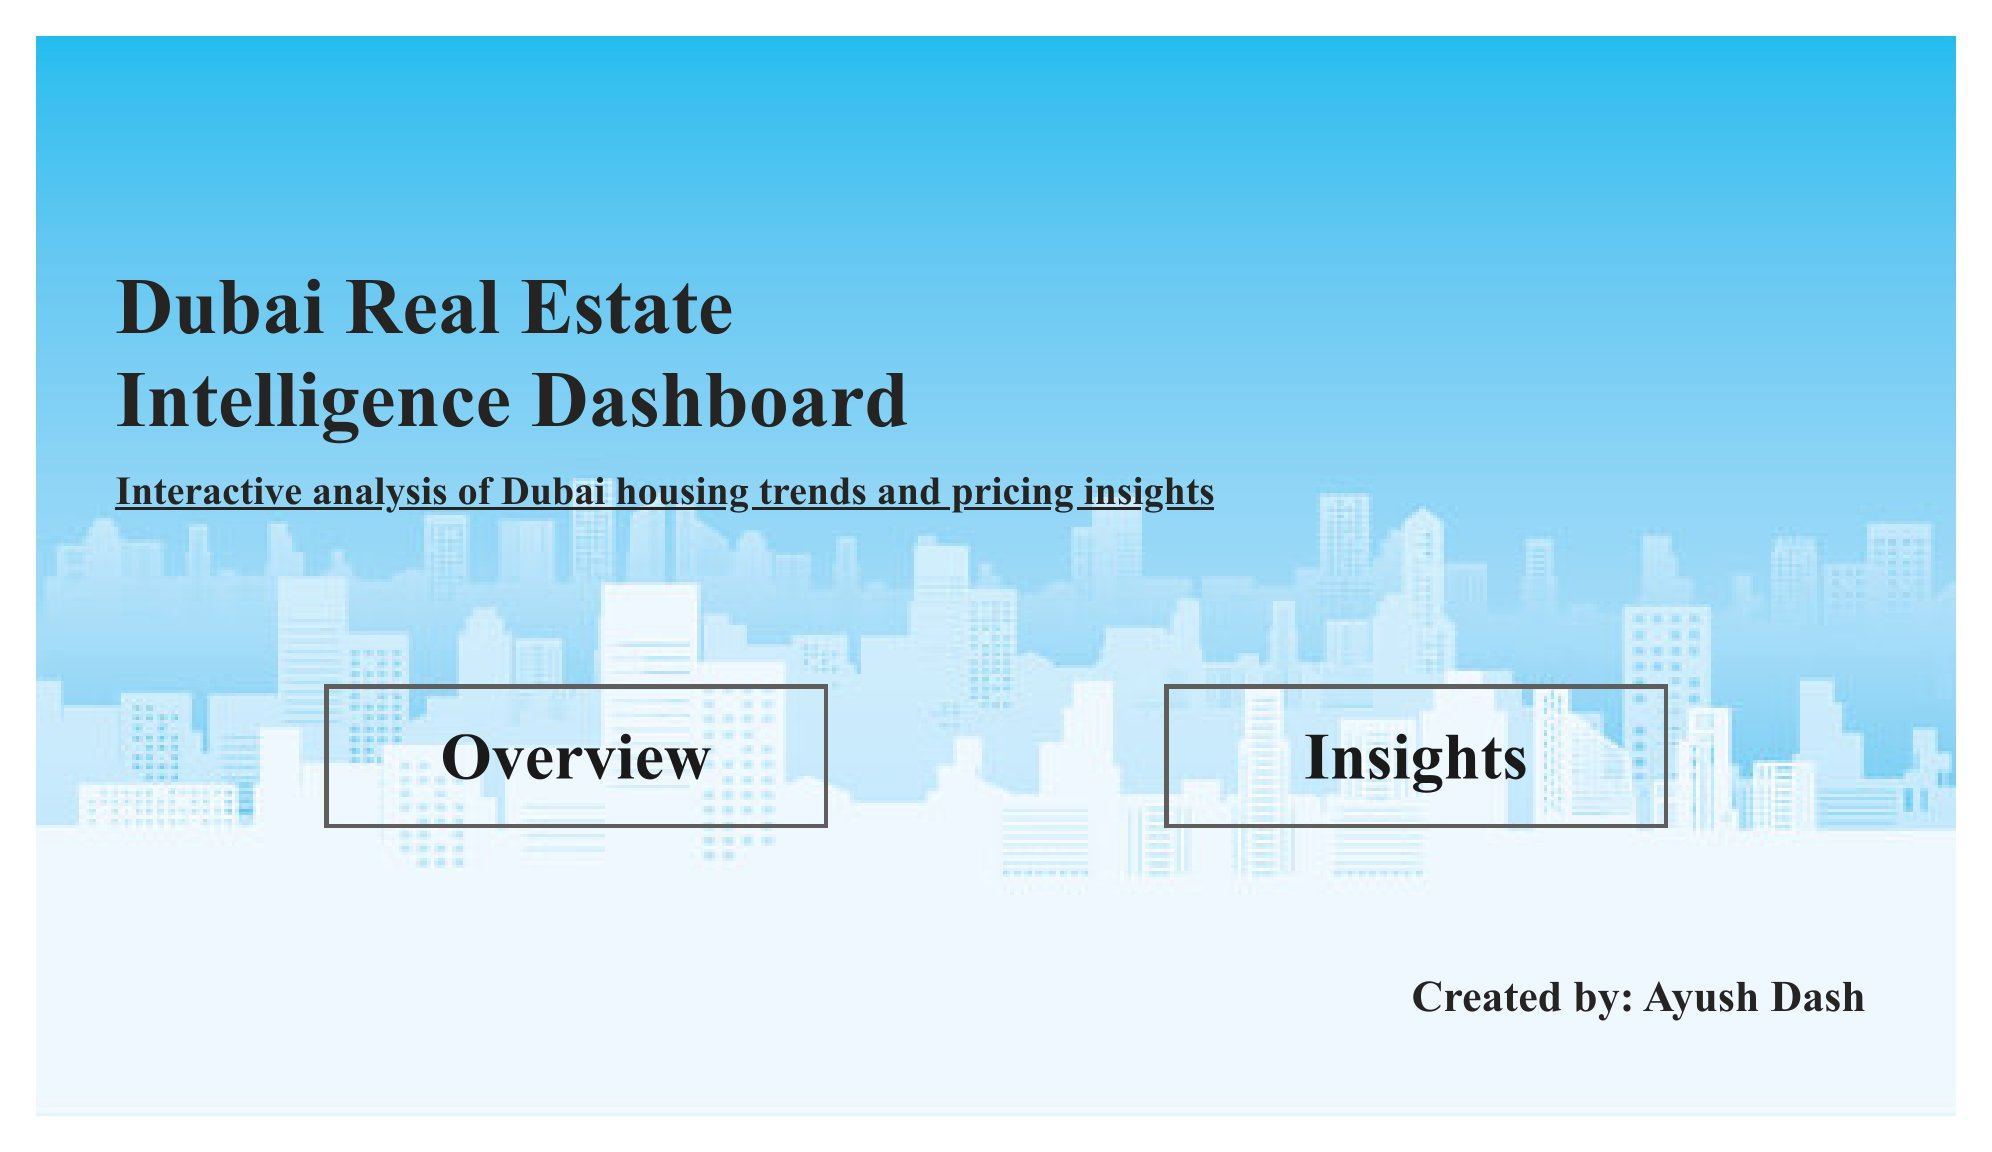

This screenshot's page, from the dashboard's own definition file:
{"tool":"powerbi","page":{"name":"Home","canvas":[1280,720],"ordinal":0},"visuals":[{"type":"image","box":[0,-16,1280,736],"z":0},{"type":"textbox","box":[48,144,624,144],"z":1000},{"type":"actionButton","title":"Overview","box":[192,432,336,96],"z":2000},{"type":"actionButton","title":"Overview","box":[752,432,336,96],"z":3000},{"type":"textbox","title":"Interactive analysis of Dubai housing trends and pricing insights","box":[48,288,784,64],"z":4000},{"type":"textbox","title":"Created by: Ayush Dash","box":[912,624,368,96],"z":5000}]}

Visuals, with their boxes in screenshot pixels (x1, y1, x2, y2), scaled from the page's 1280x720 canvas onto the 1992x1152 screenshot:
image: [0,0,1991,1151]
textbox: [75,230,1046,461]
"Overview" actionButton: [299,691,822,845]
"Overview" actionButton: [1170,691,1693,845]
"Interactive analysis of Dubai housing trends and pricing insights" textbox: [75,461,1295,563]
"Created by: Ayush Dash" textbox: [1419,998,1991,1151]
